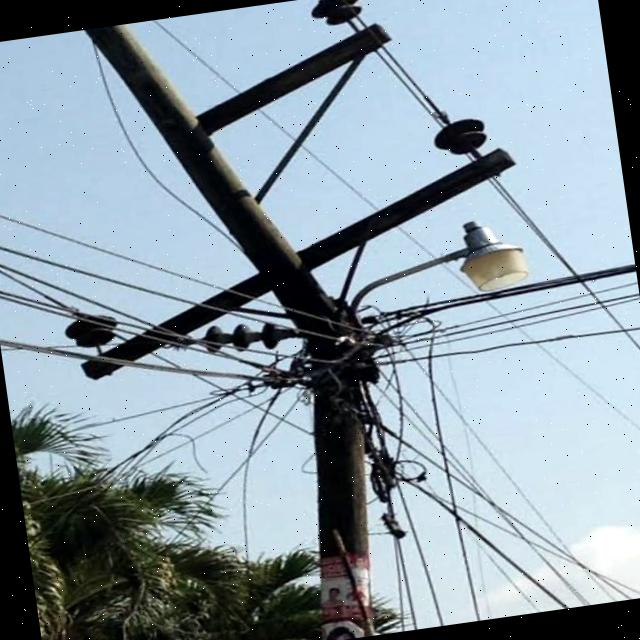Broken Pole: (8, 0, 580, 640)
